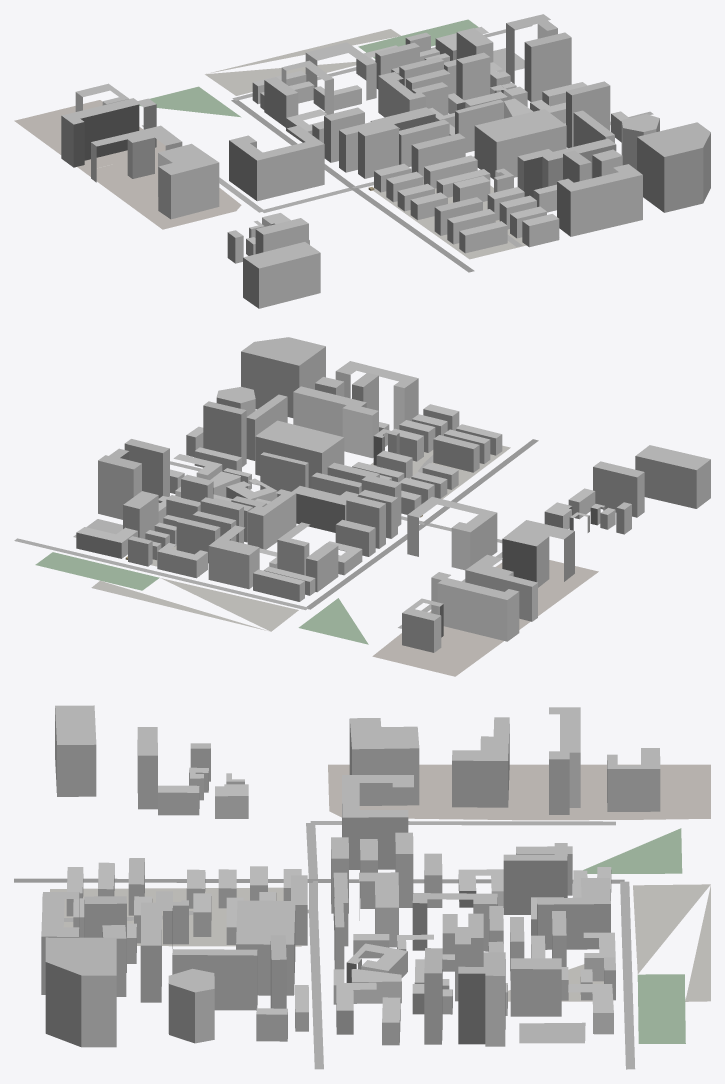
3 renders of one model, top to bottom at view 1: azimuth 30°, elevation 25°; view 2: azimuth 150°, elevation 25°; view 3: azimuth 270°, elevation 25°, orthographic. The views are drawn at different scales.
Size of the model in its own units: 558 by 61.52 by 527.
